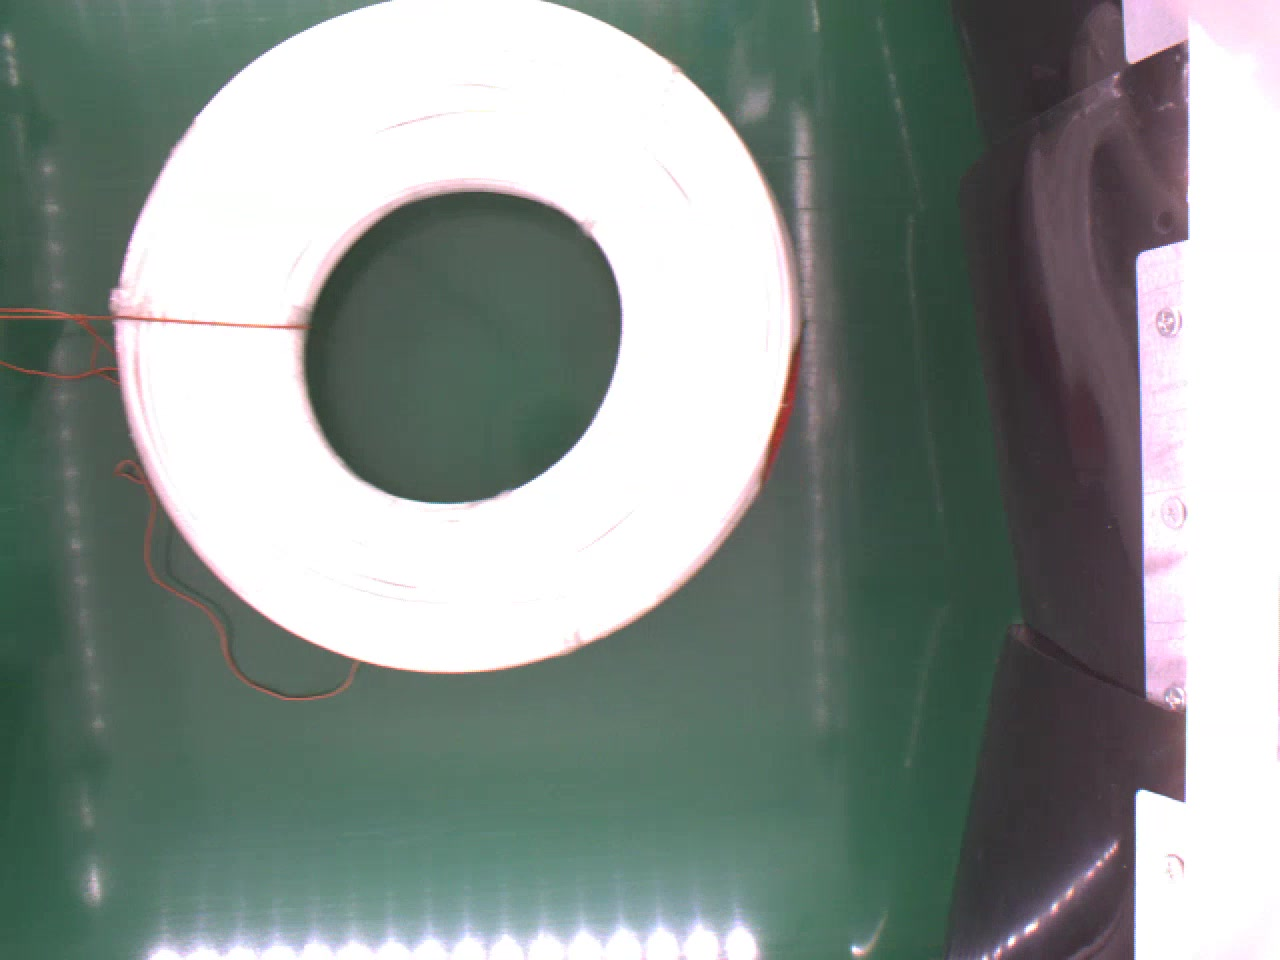white: (112, 0, 790, 667)
